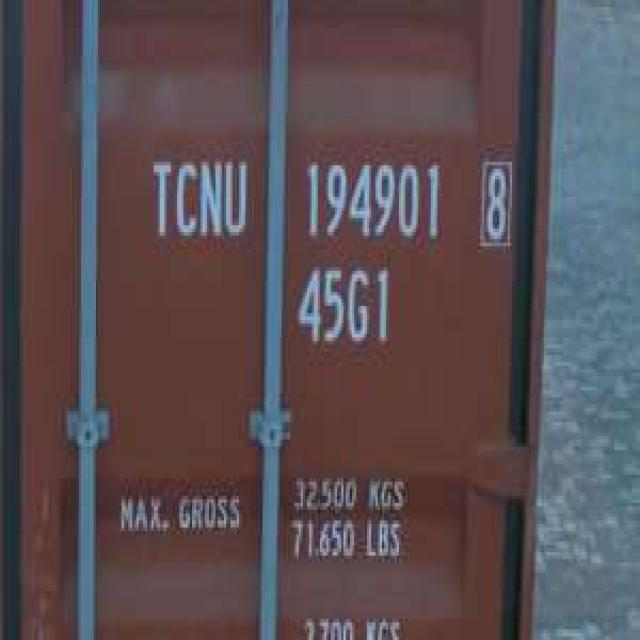dv: (473, 153, 515, 255)
owner: (146, 144, 254, 255)
serial: (299, 148, 447, 246)
size: (292, 260, 398, 354)
